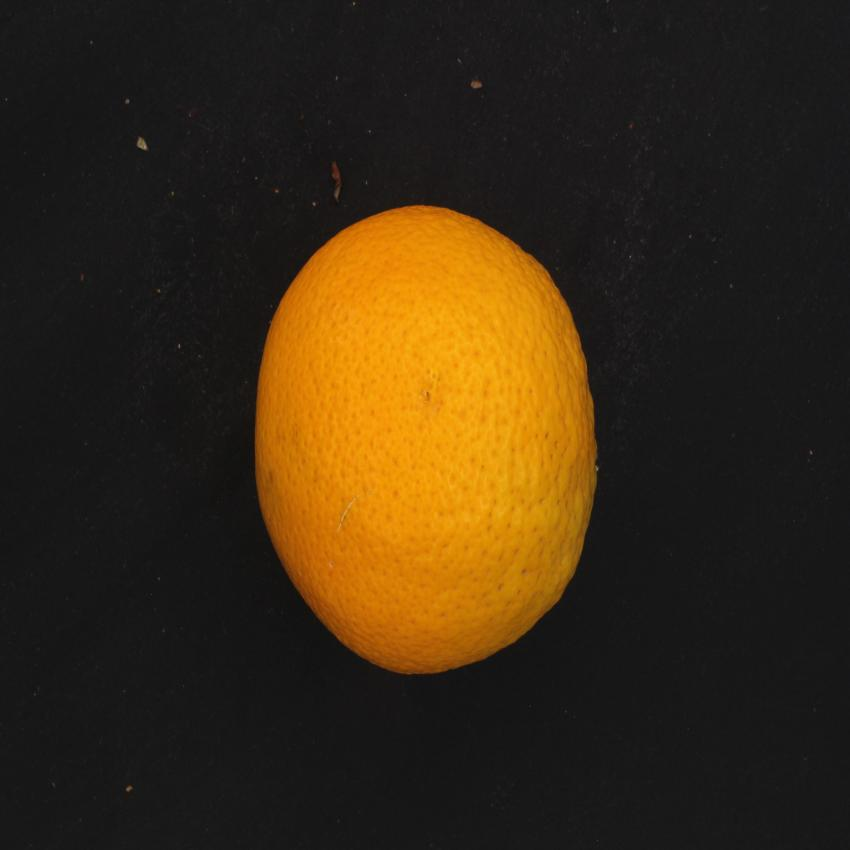Buen estado: (245, 192, 613, 684)
